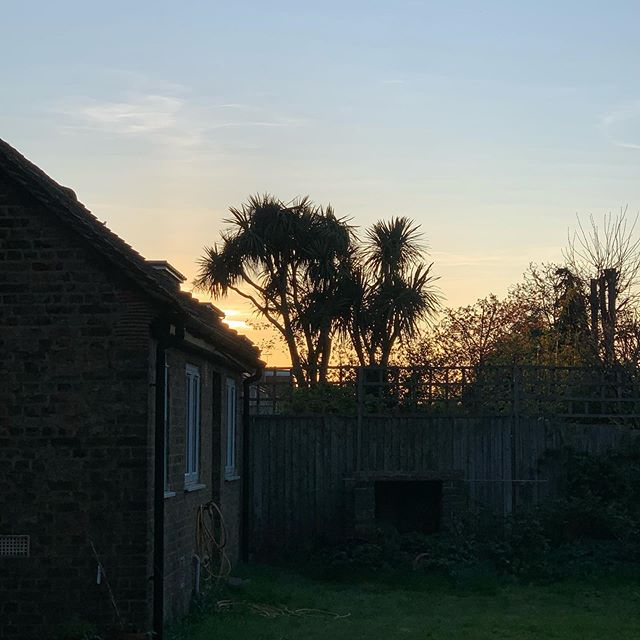building: (1, 153, 244, 622)
sky: (1, 1, 628, 205)
tree: (203, 190, 361, 377), (347, 216, 442, 371)
